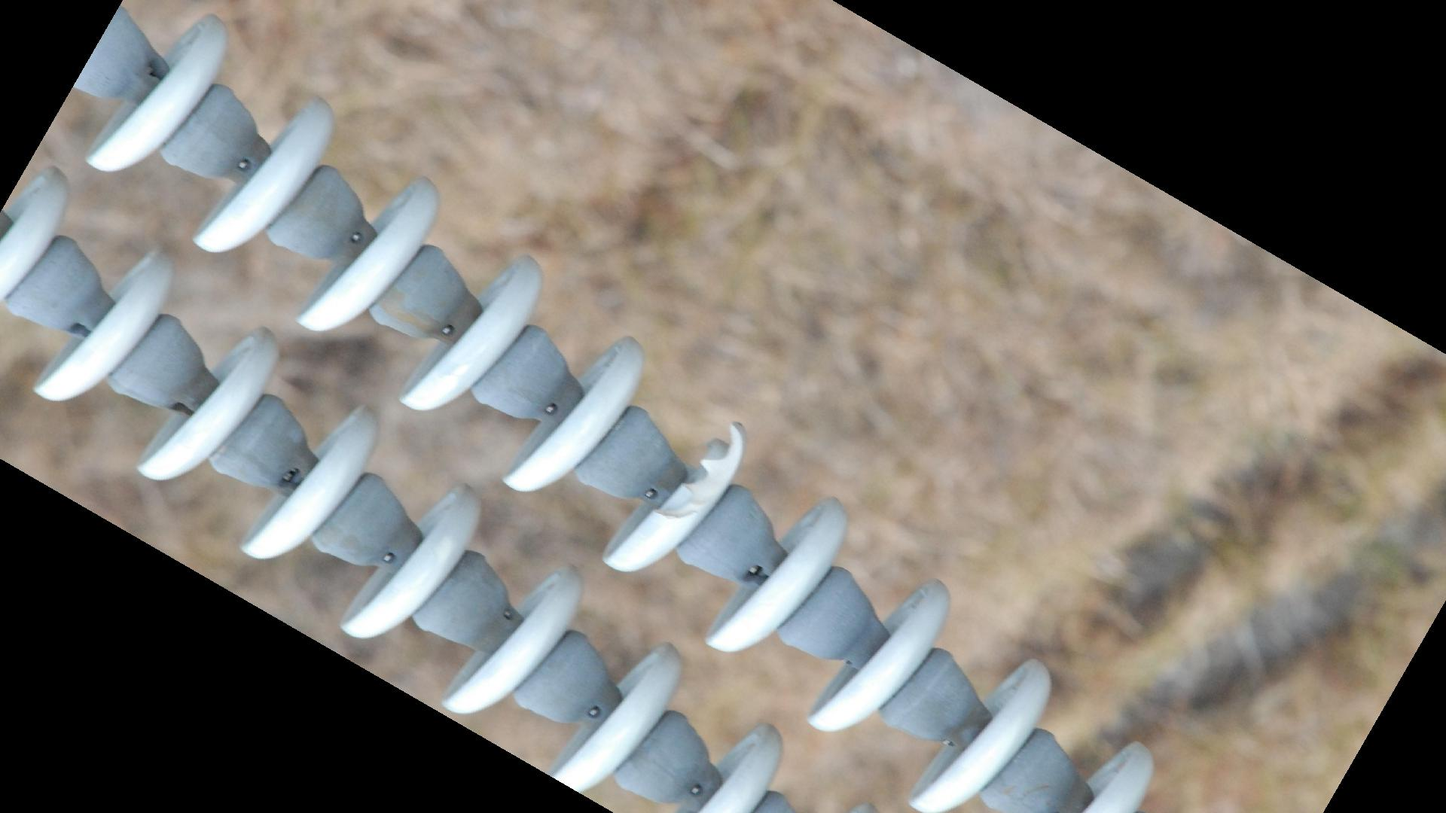insulator: (80, 9, 1165, 813), (1, 158, 798, 813)
insulator_breakage: (637, 416, 755, 537)
